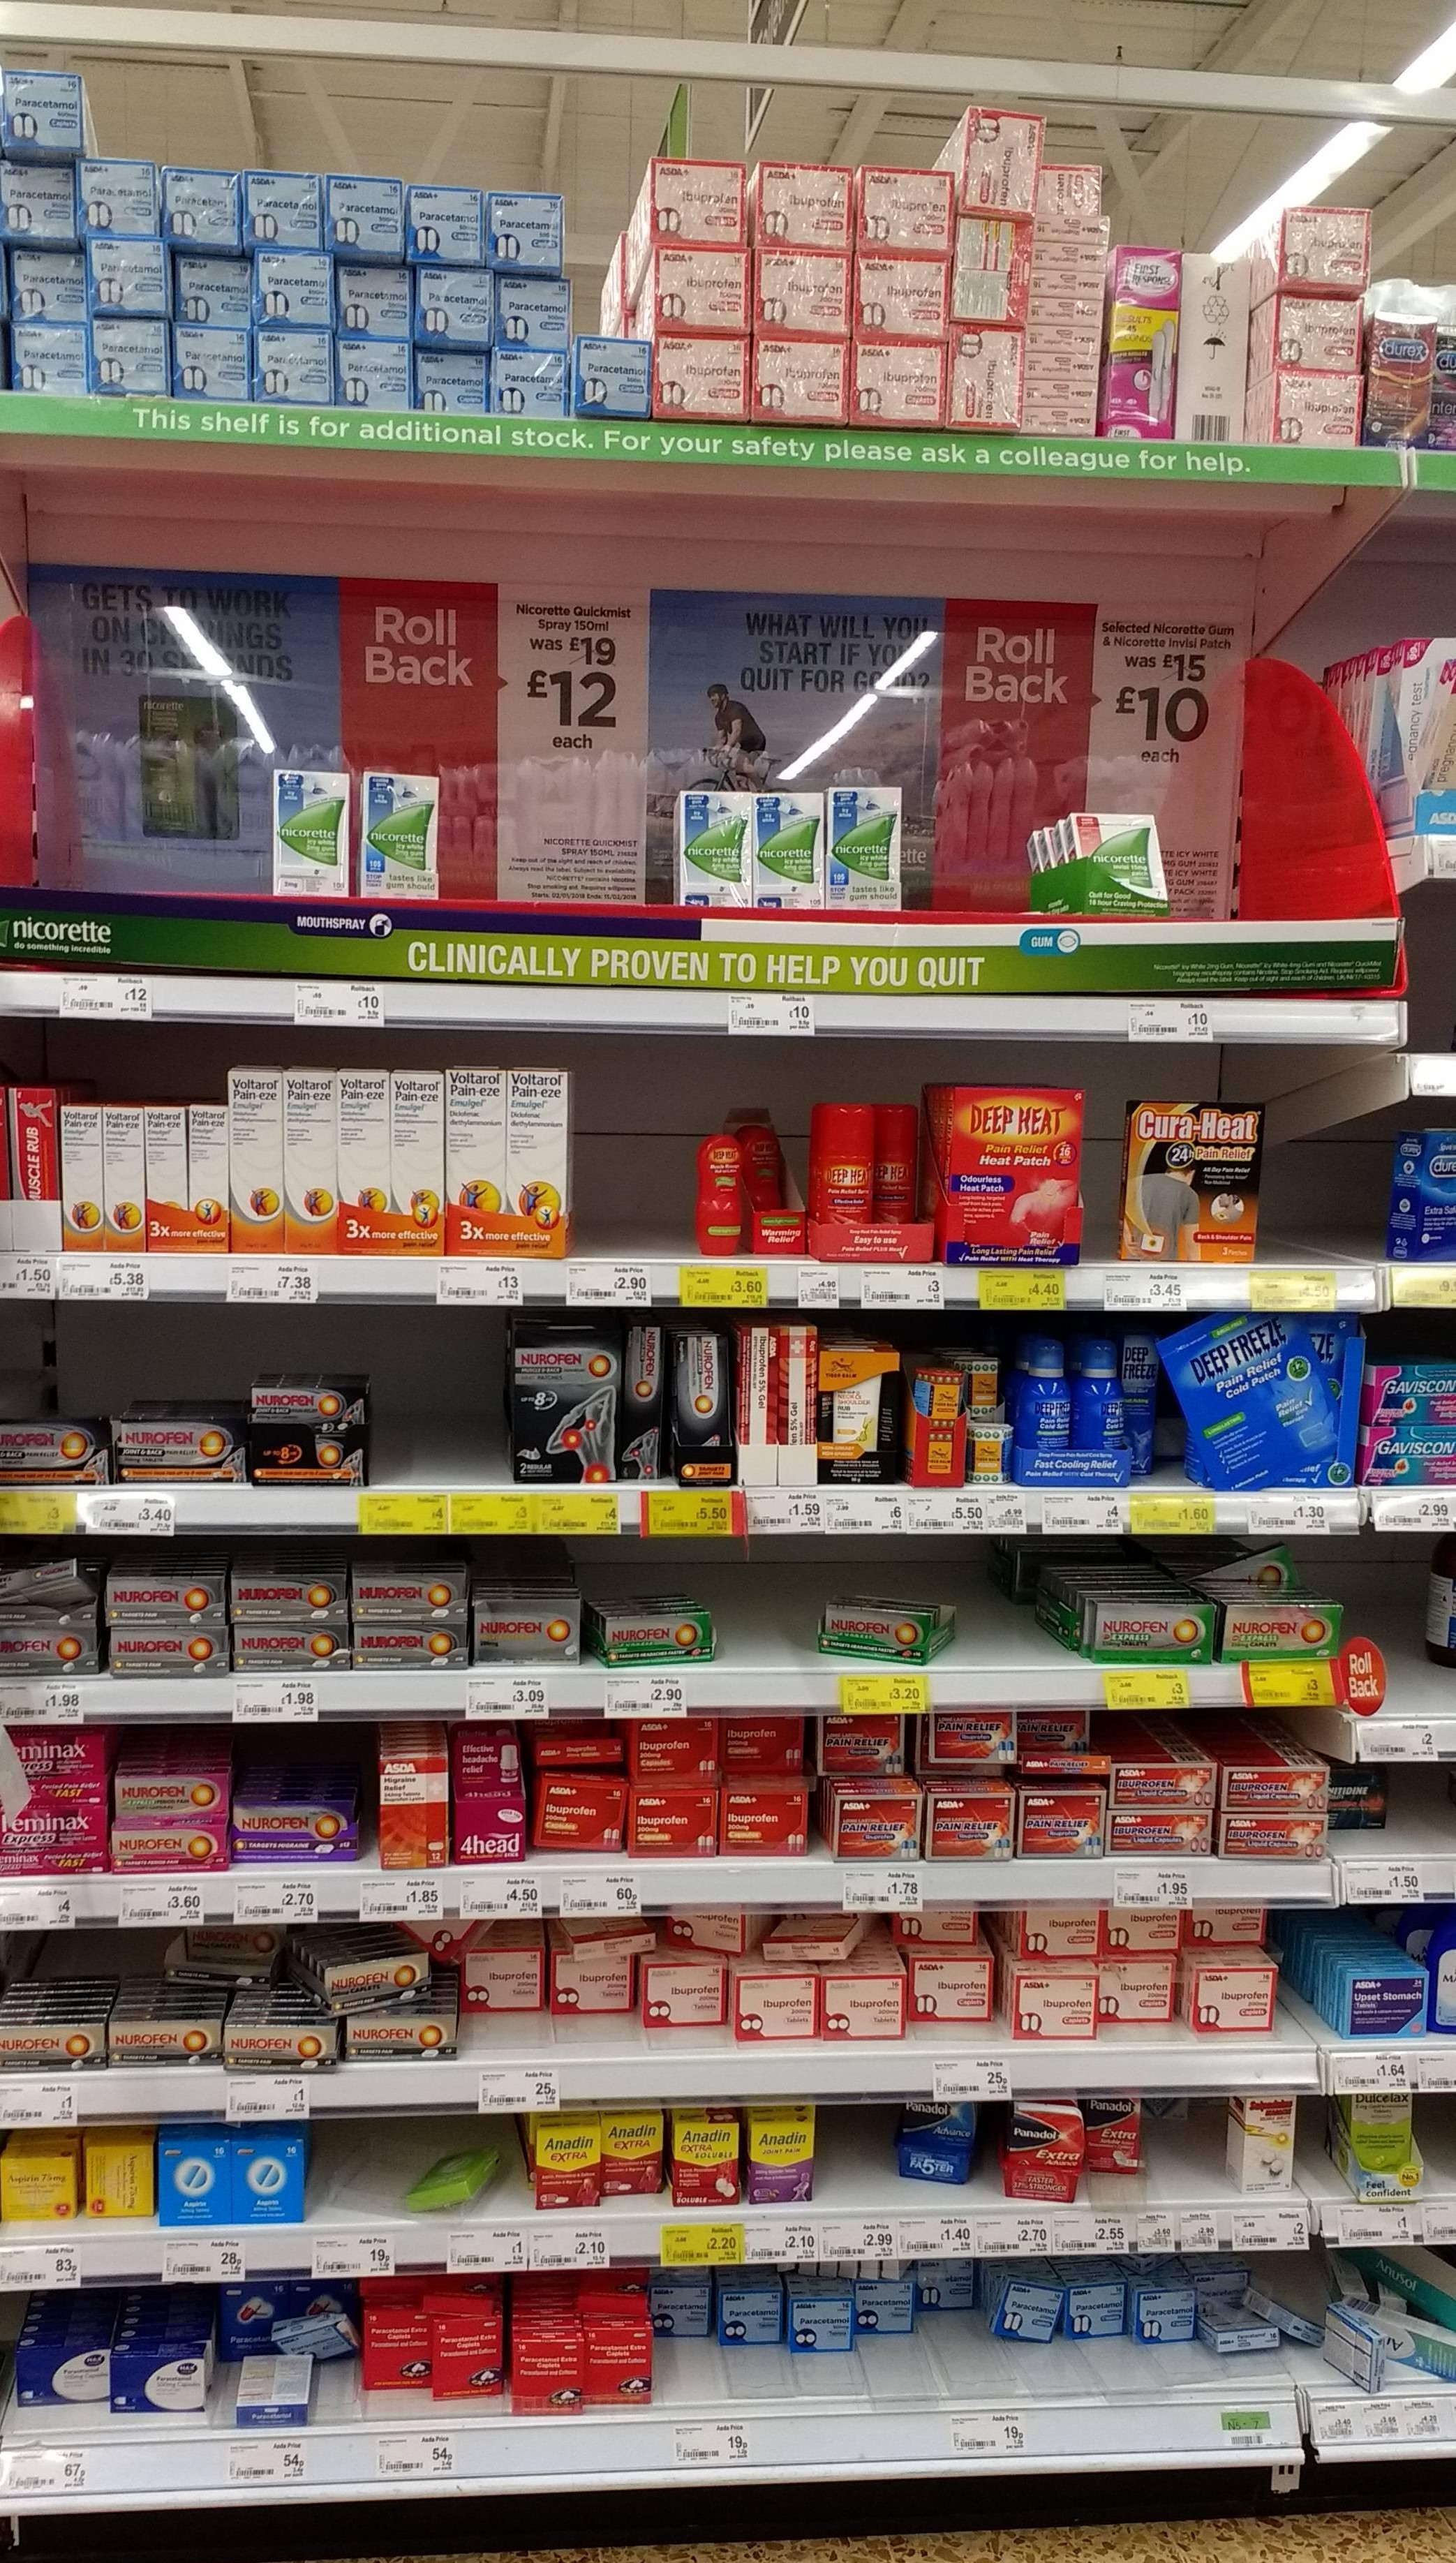empty: (377, 1324, 498, 1477), (588, 1076, 687, 1260), (1269, 1079, 1357, 1260), (725, 1558, 803, 1660), (1150, 2102, 1224, 2197), (829, 2114, 894, 2202), (963, 1542, 1002, 1662)
misalignment: (1199, 2262, 1456, 2383), (1092, 1093, 1259, 1266), (544, 1912, 884, 1966), (218, 2290, 357, 2419), (160, 1938, 435, 2001), (1313, 2100, 1452, 2204), (335, 2135, 500, 2214), (820, 1593, 960, 1667), (590, 1595, 718, 1663)
